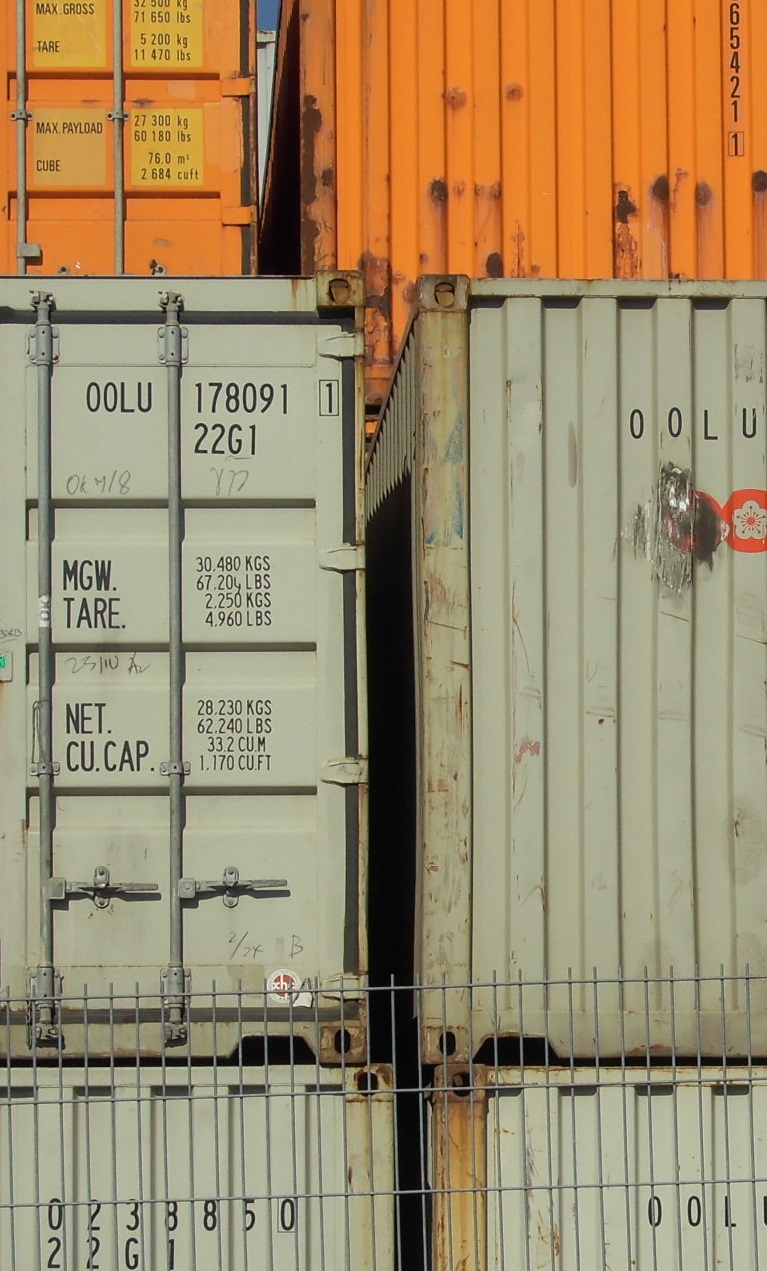container_door: (6, 275, 360, 1062), (1, 1, 253, 274)
container_no_door: (414, 277, 767, 1057), (308, 4, 767, 283)
